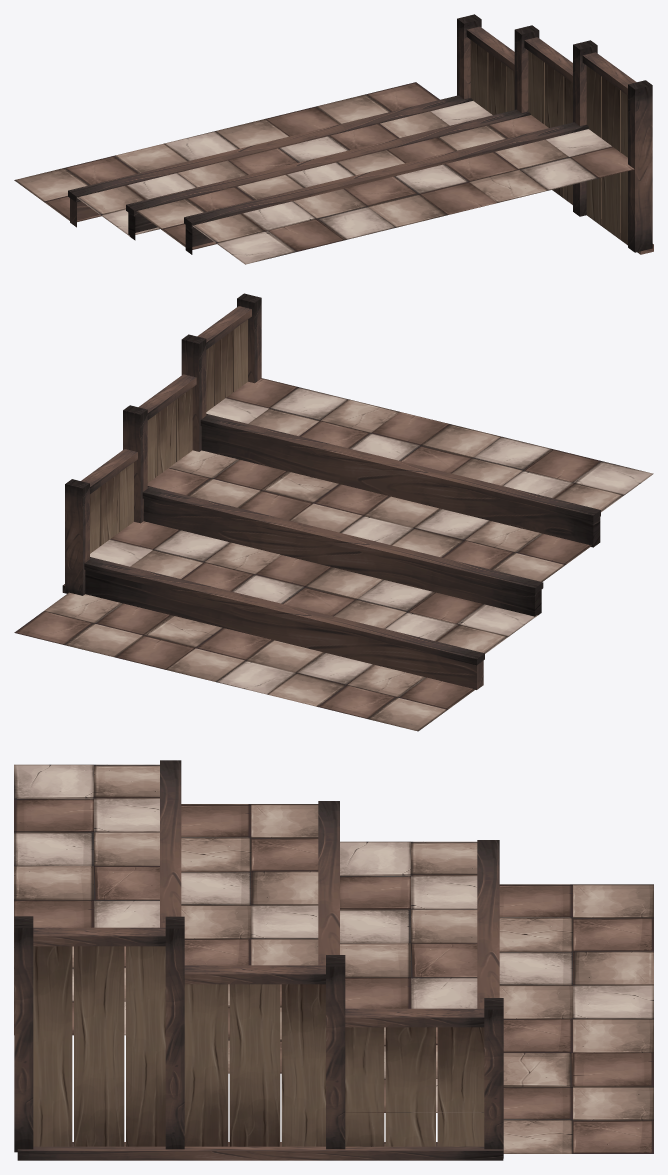
Rendered from Straight3_wall_end_half.fbx.
The picture shows the model from 3 angles, top to bottom: view 1: azimuth 30°, elevation 25°; view 2: azimuth 150°, elevation 25°; view 3: azimuth 270°, elevation 25°; orthographic projection. The views are drawn at different scales.
Visible parts, largest first — view 1: Straight3_end_half; view 2: Straight3_end_half; view 3: Straight3_end_half.
Boxes of the visible parts, left/top/right/bottom form: Straight3_end_half: left=14, top=14, right=653, bottom=264; Straight3_end_half: left=14, top=293, right=653, bottom=731; Straight3_end_half: left=14, top=760, right=653, bottom=1160.
Bounding box in the file's own units: 0.6139 × 0.24 × 0.6027.
